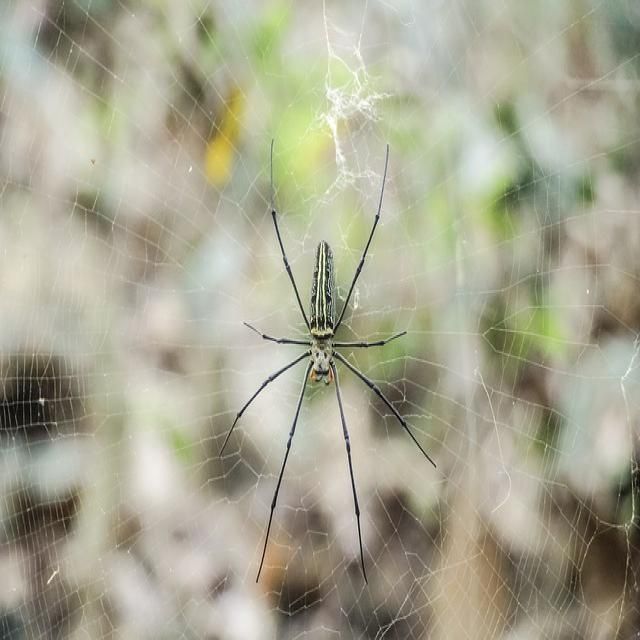spyder: (220, 143, 435, 582)
